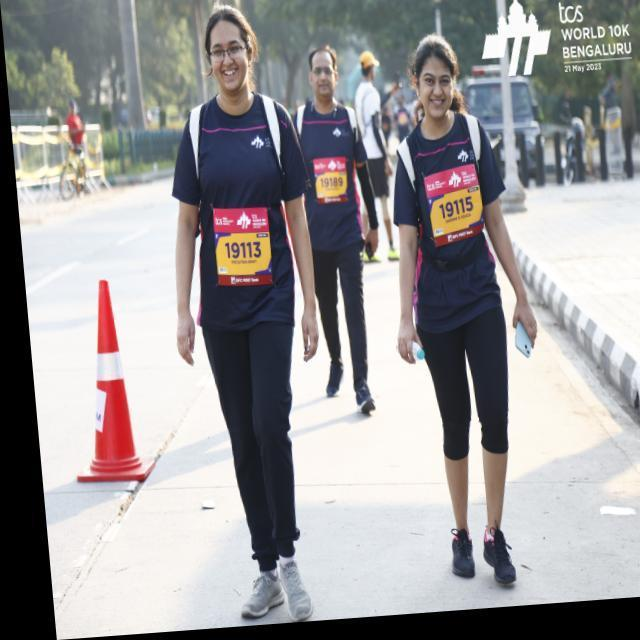dorsal: (206, 204, 272, 298), (419, 177, 482, 249), (308, 160, 346, 214)
